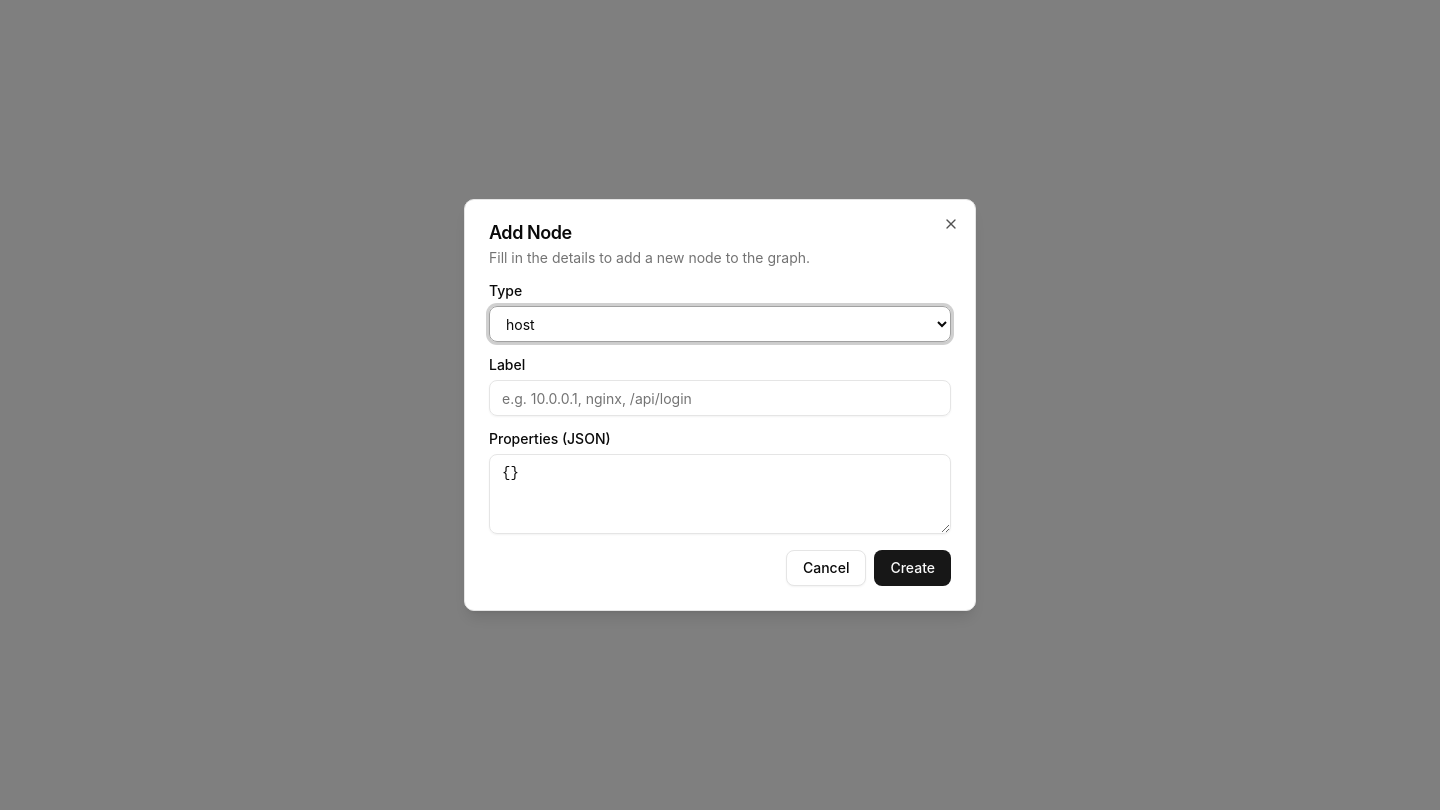
Test case: NodeEditDialog › create mode (no node prop) › shows inline error for invalid JSON in properties
The width and height of the screenshot is (1440, 810).
Replace the text in the text box labelled "Properties (JSON)" with "not json". click: (720, 494)
box: x1=489 y1=454 x2=951 y2=534
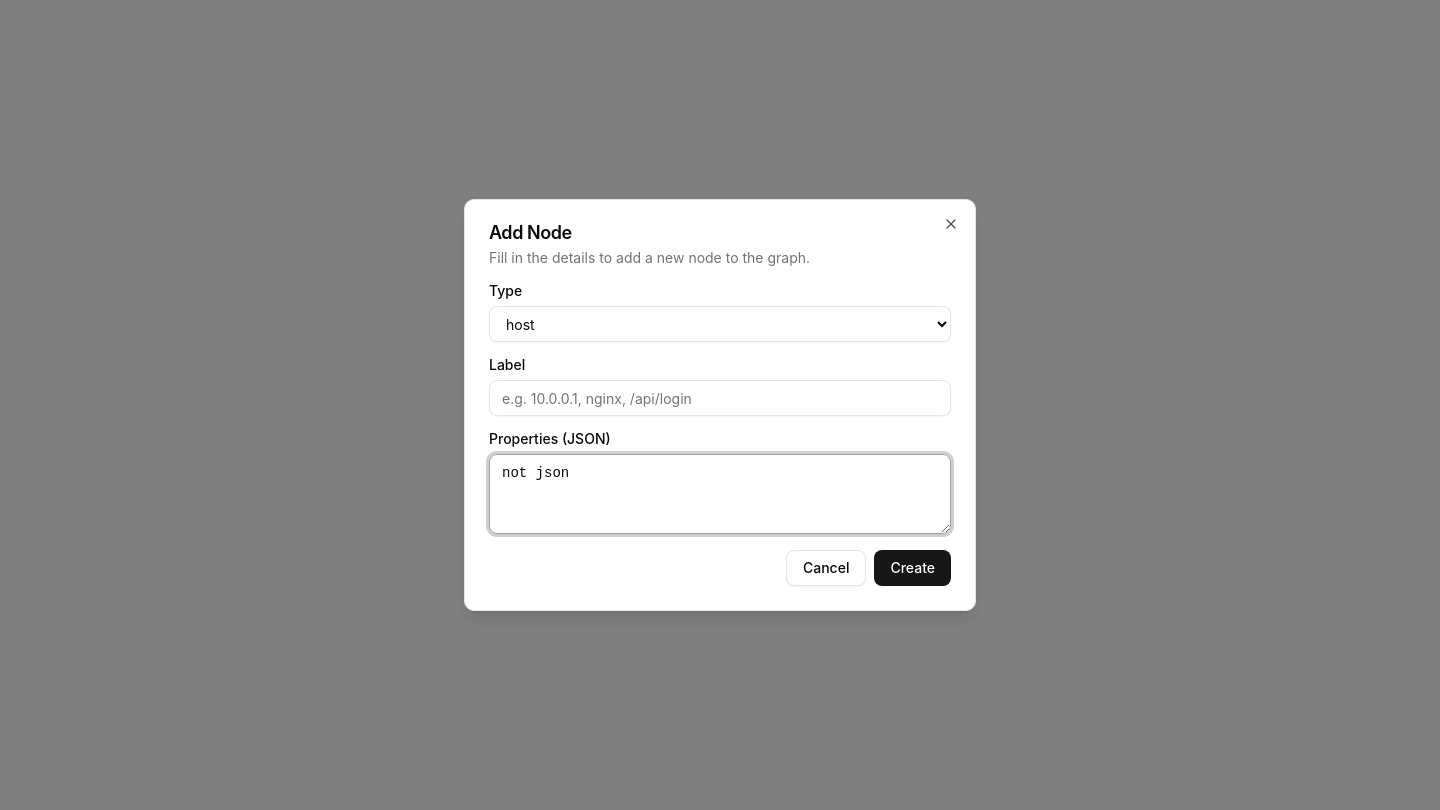
Type "host-1" into the field labelled "Label". click: (720, 398)
box: x1=489 y1=380 x2=951 y2=416
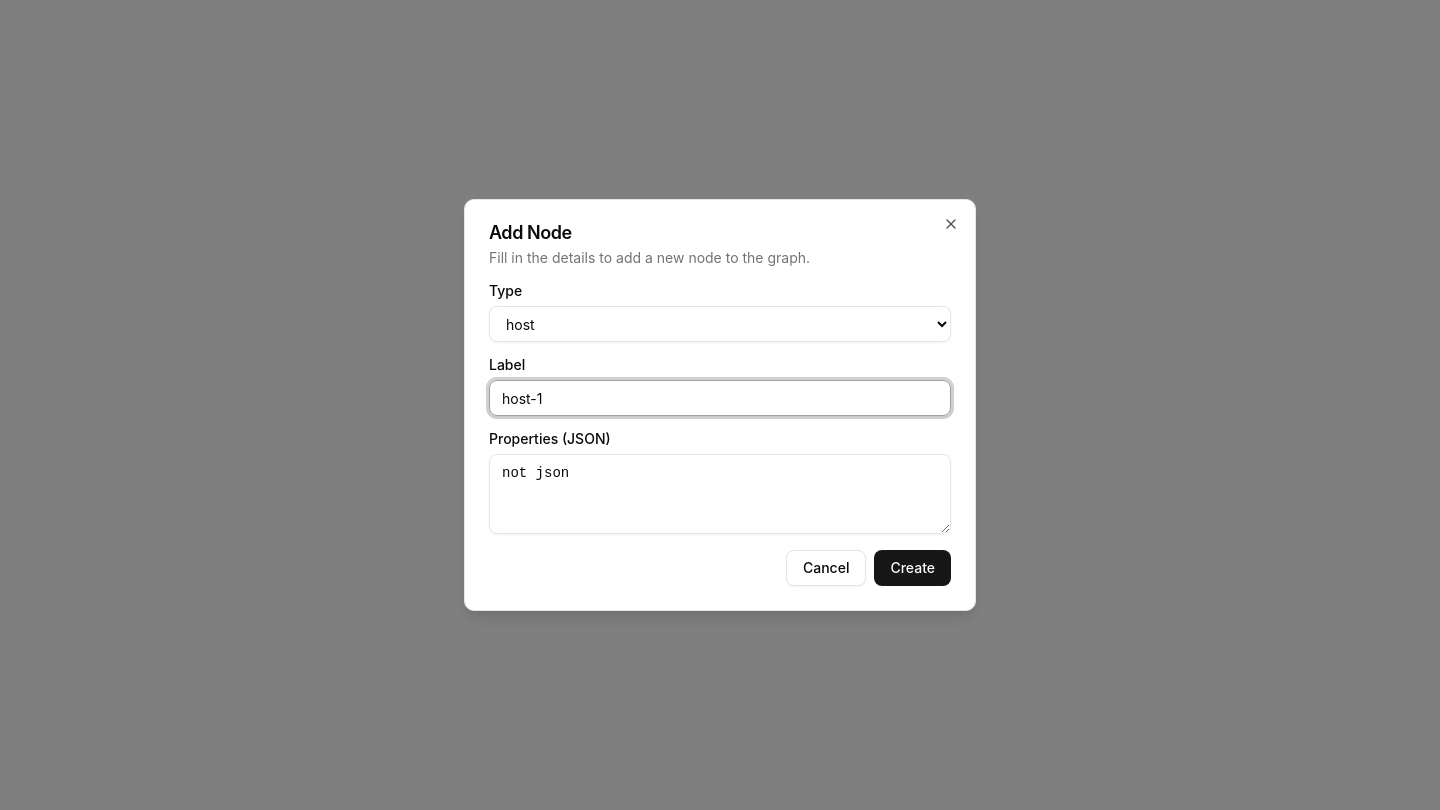
Click the button "Create". click: (913, 568)
box: x1=874 y1=550 x2=951 y2=586
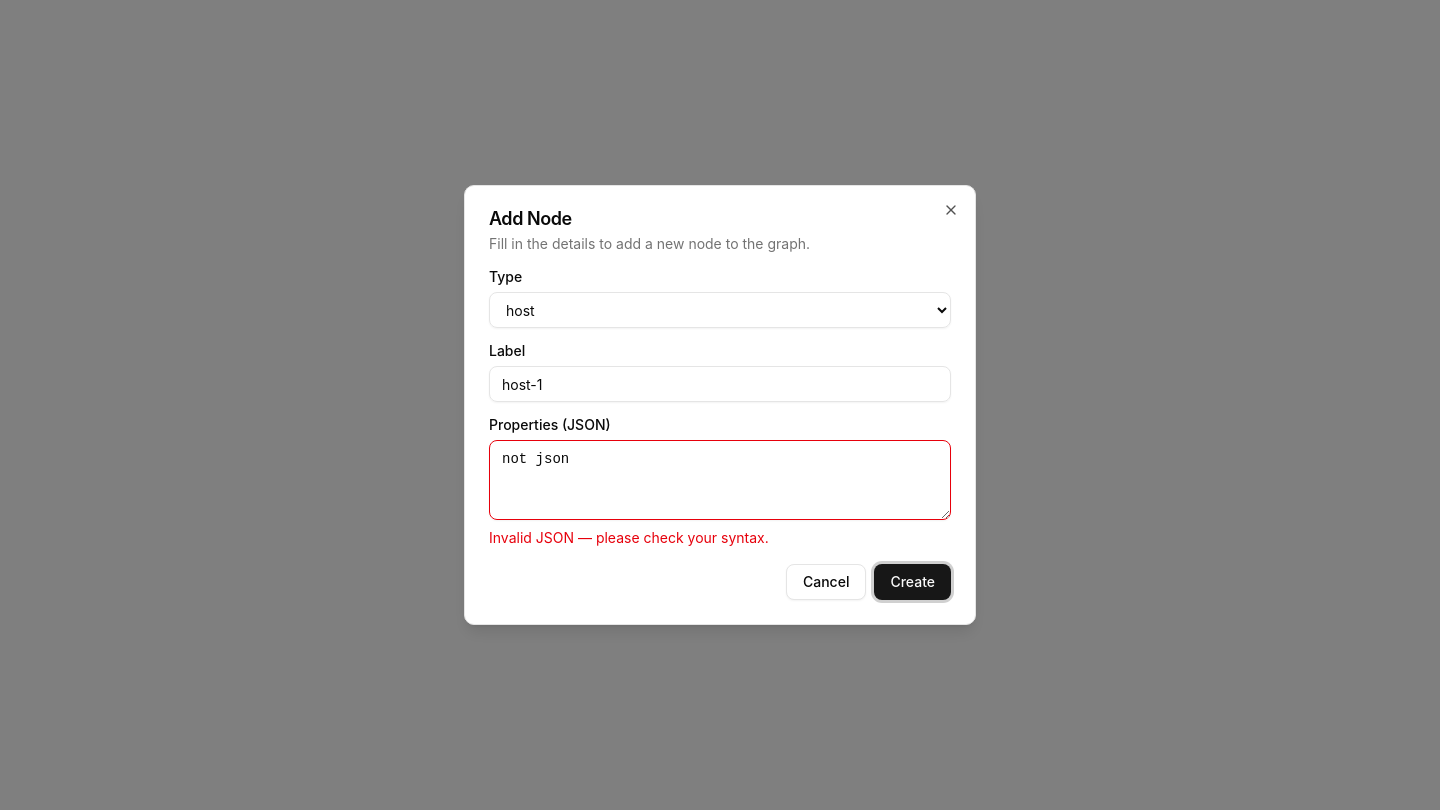
Expected: the message shows "Invalid JSON", x1=489 y1=529 x2=769 y2=546
